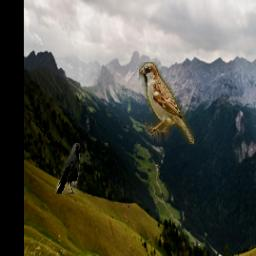Crow: (55, 143, 80, 194)
Sparrow: (139, 63, 194, 145)
